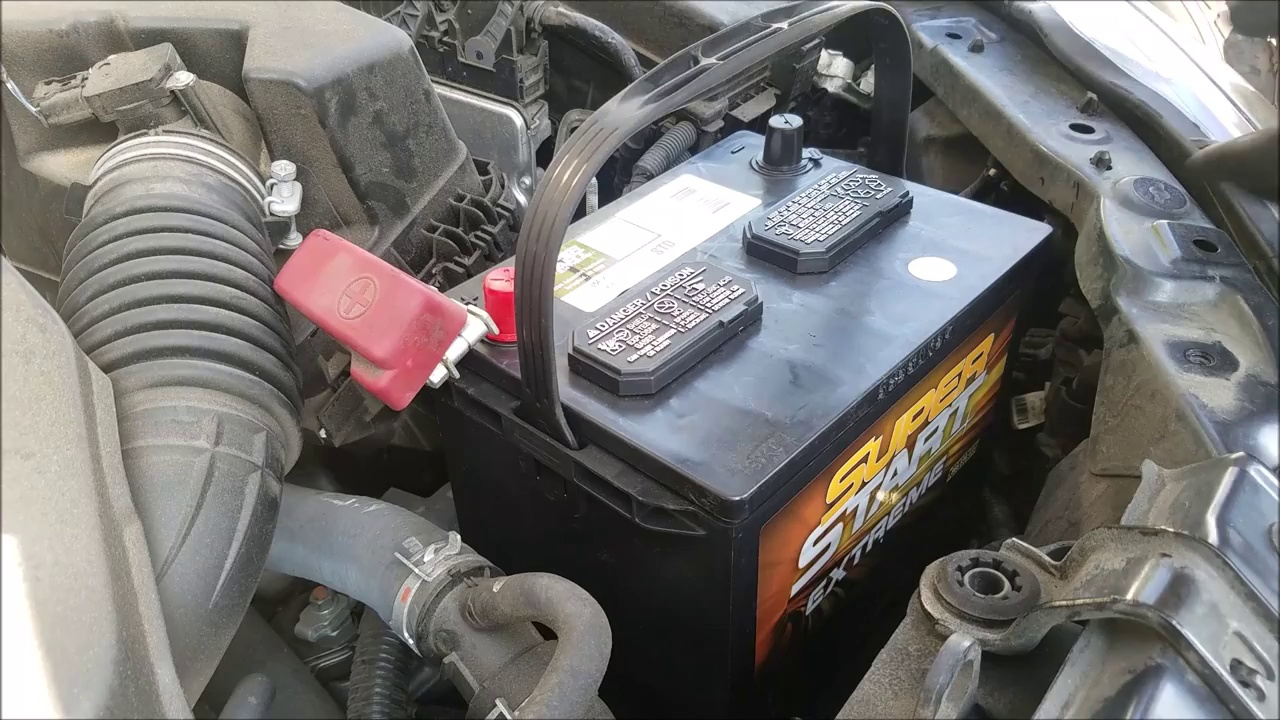battery: (423, 112, 1042, 516)
pos_disconnected: (277, 220, 569, 407)
